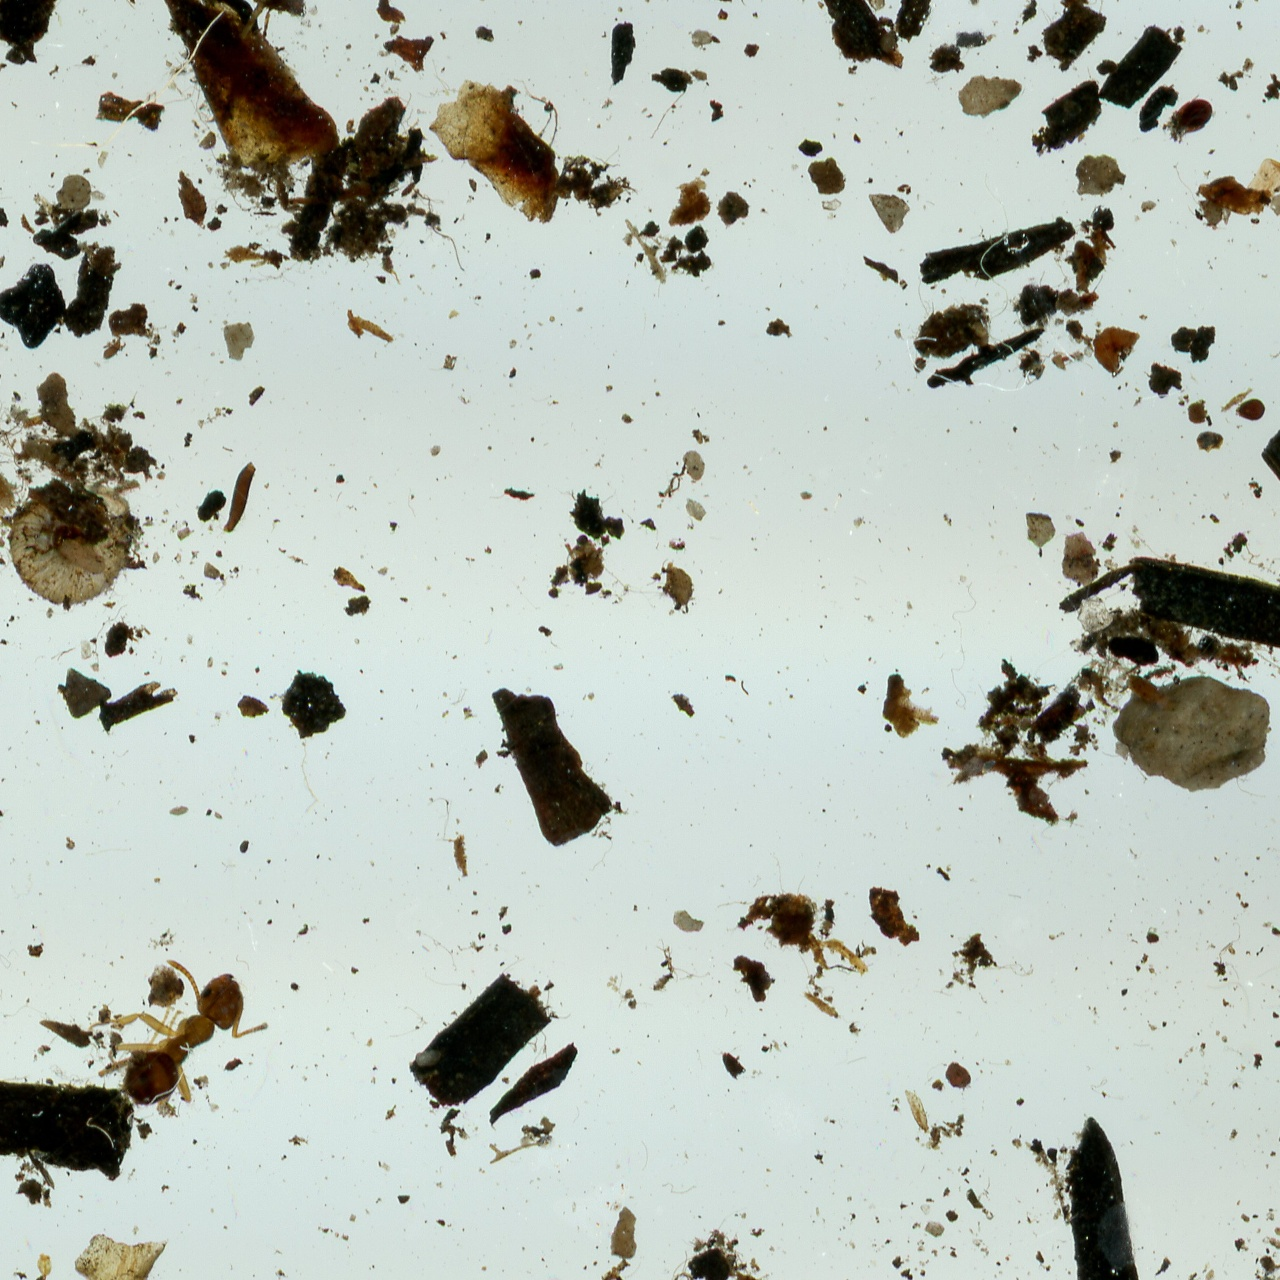arthropod: (64, 921, 286, 1148)
